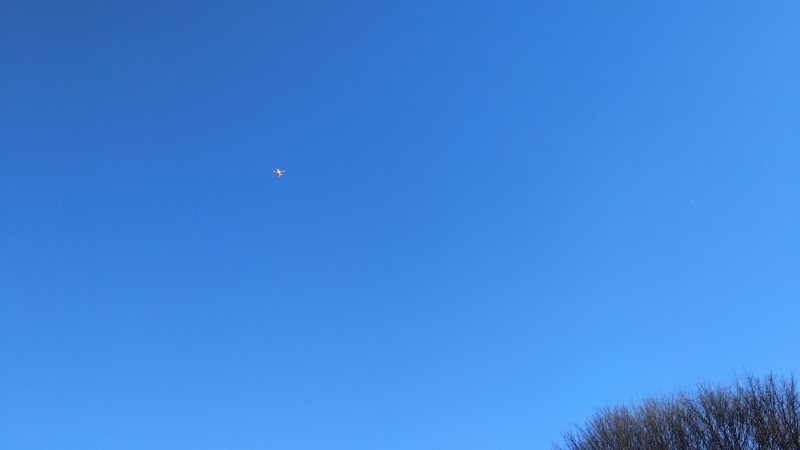drone: (270, 162, 286, 178)
